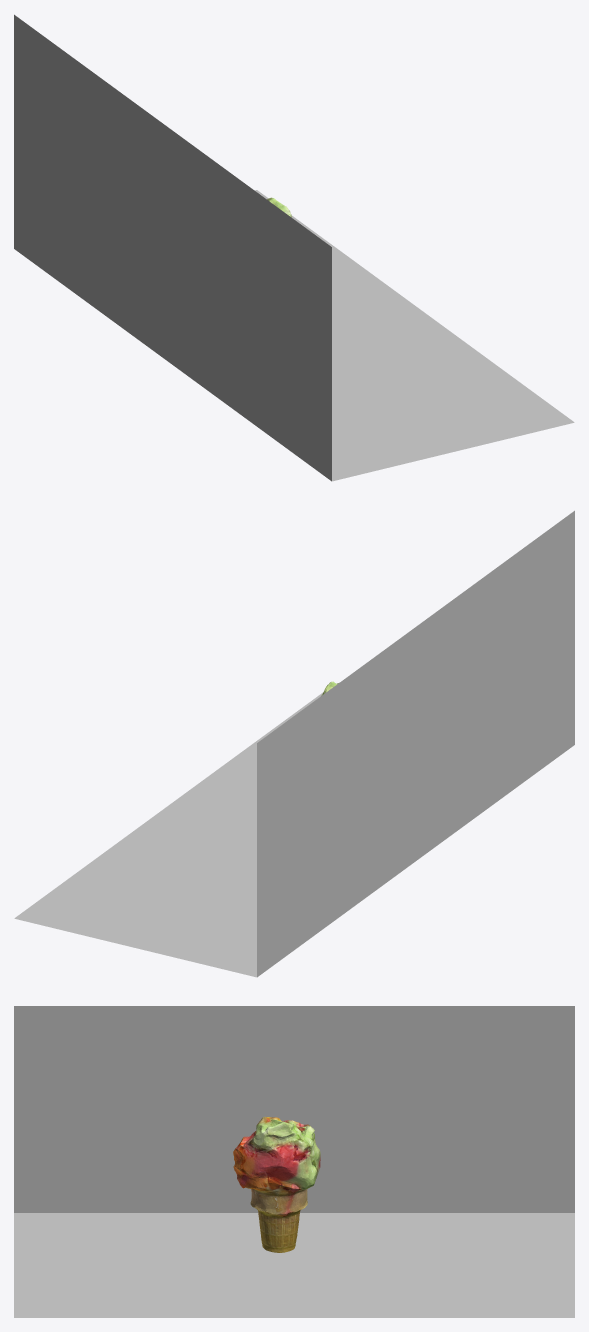
Rendered from Rainbow_Sherbet_Ice_Cream_Cone.obj.
3 views of the same model, one above another, from view 1: azimuth 30°, elevation 25°; view 2: azimuth 150°, elevation 25°; view 3: azimuth 270°, elevation 25° (orthographic). The views are drawn at different scales.
Bounding box in the file's own units: 106 × 97.9 × 240.
